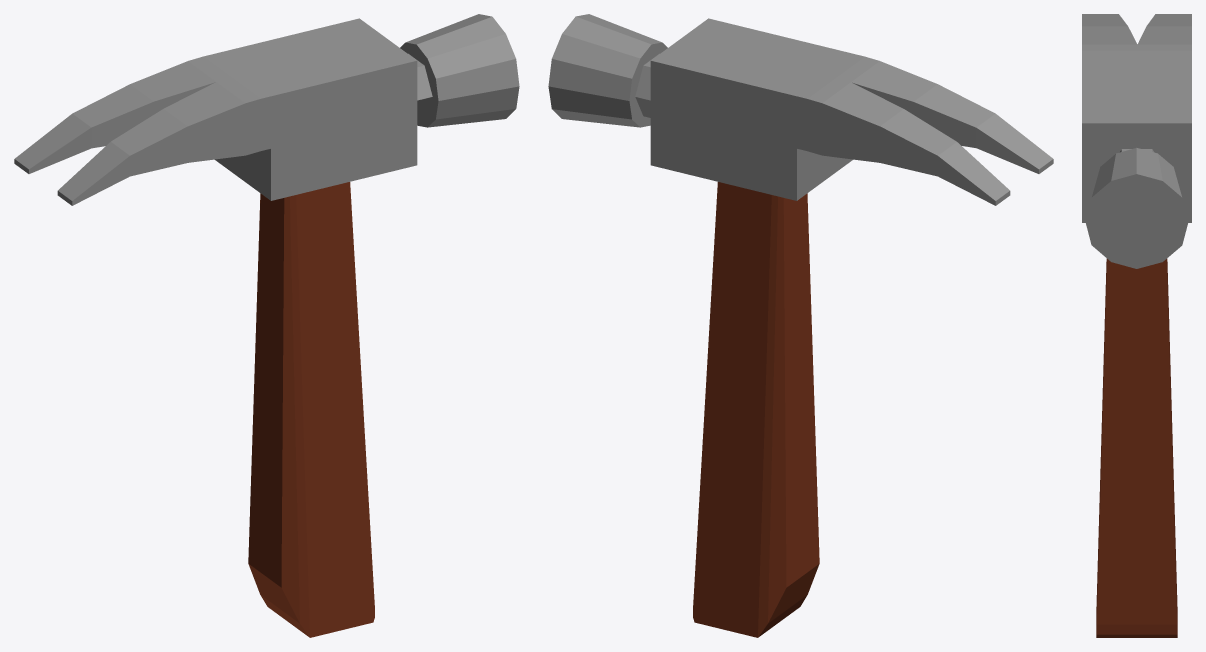
File: Hammer.fbx
The picture shows the model from 3 angles, left to right: view 1: azimuth 30°, elevation 25°; view 2: azimuth 150°, elevation 25°; view 3: azimuth 270°, elevation 25°; orthographic projection. The views are drawn at different scales.
Parts seen in each view (by area): view 1: Cube, Cube.001; view 2: Cube, Cube.001; view 3: Cube.001, Cube.
Part boxes in pixels (x1,y1,x2,y2): Cube: (14, 14, 519, 205); Cube.001: (248, 182, 374, 637); Cube: (548, 14, 1053, 205); Cube.001: (693, 182, 819, 637); Cube.001: (1096, 258, 1177, 637); Cube: (1082, 14, 1191, 268).
Size of the model in its own units: 898 by 1067 by 200.
